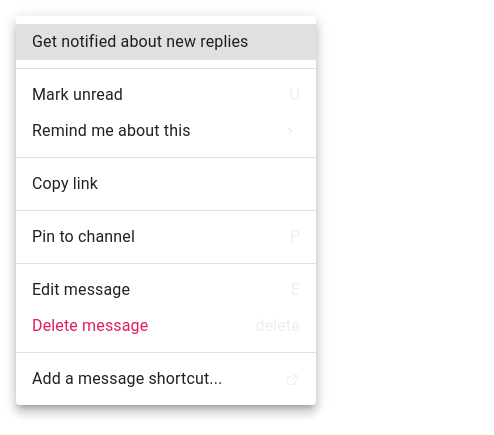
Test: Test actions › Hover/unhover on Remind me about this
The width and height of the screenshot is (494, 435).
Hover over the menu item "Remind me about this" at (166, 131), box x1=16 y1=113 x2=316 y2=149
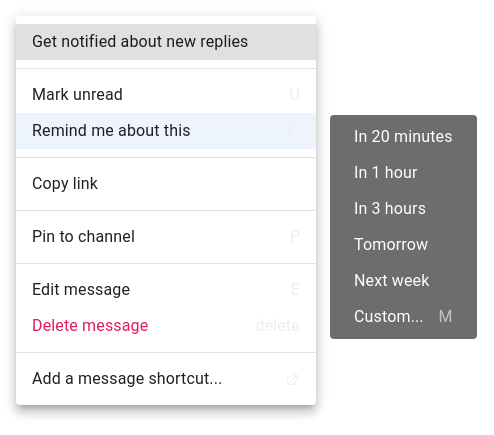
Check: the text "In 20 minutes" is shown, box x1=354 y1=125 x2=453 y2=149
Move the pointer off the menu item "Remind me about this", box x1=16 y1=113 x2=316 y2=149
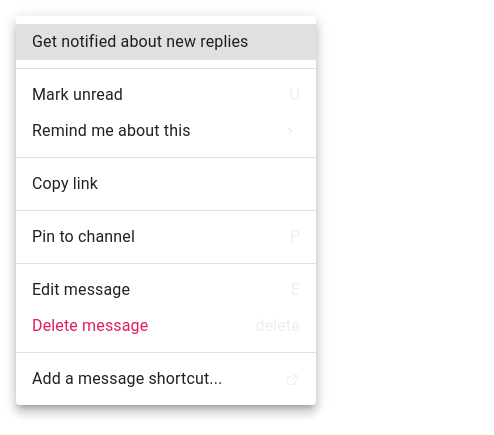
Check: the menu item "In 20 minutes" is gone
